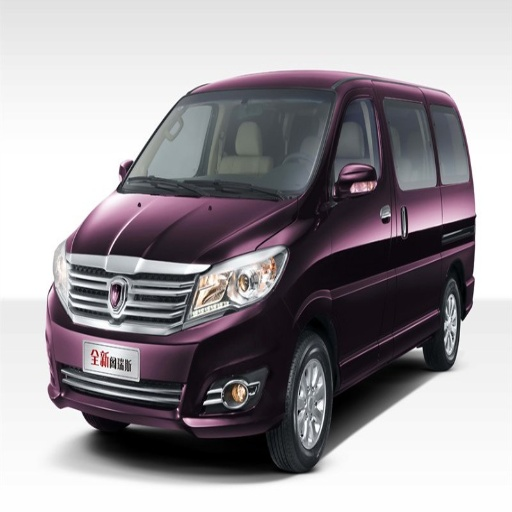front_bumper: (47, 258, 293, 436)
front_glass: (118, 92, 335, 196)
front_left_door: (324, 89, 400, 364)
trunk: (443, 218, 472, 267)
